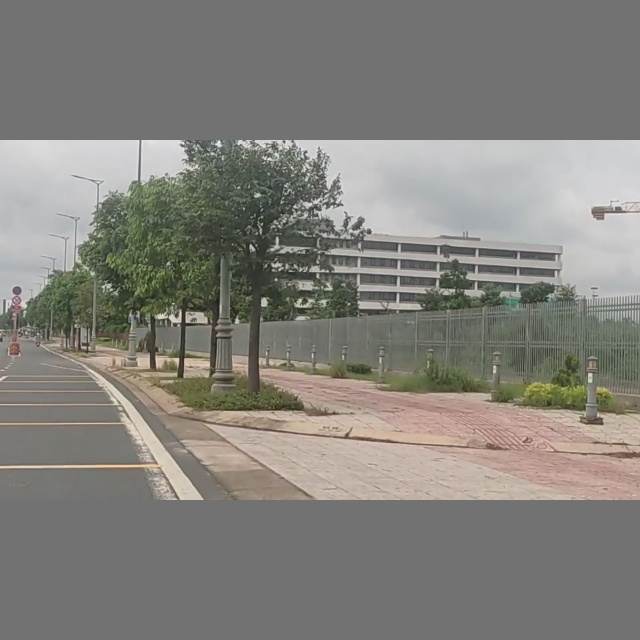P.111: (12, 296, 22, 305)
P.130: (12, 286, 23, 295)
